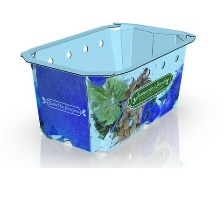plastic_box: (14, 13, 200, 160)
